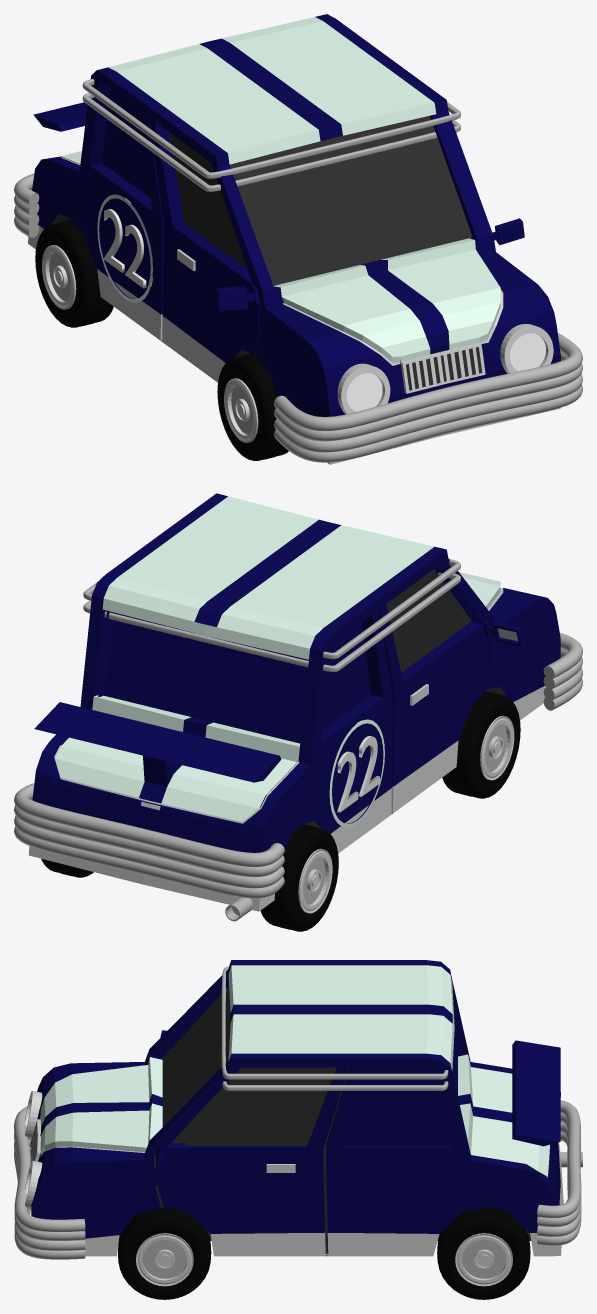
The model's file is CR-CAR-24B.fbx.
3 renders of one model, top to bottom at view 1: azimuth 30°, elevation 25°; view 2: azimuth 150°, elevation 25°; view 3: azimuth 270°, elevation 25°, orthographic. The views are drawn at different scales.
Parts seen in each view (by area): view 1: Body, NurbsPath.002, NurbsPath.001, WHEEL.004, WHEEL.001, Text; view 2: Body, NurbsPath.002, WHEEL.001, WHEEL.004, NurbsPath.001, Text; view 3: Body, NurbsPath.002, WHEEL.002, WHEEL.003, NurbsPath.001.
Part boxes in pixels (<box>): Body: <box>26,14,560,464</box>; NurbsPath.002: <box>14,173,582,462</box>; NurbsPath.001: <box>82,78,460,191</box>; WHEEL.004: <box>35,220,113,327</box>; WHEEL.001: <box>217,353,288,460</box>; Text: <box>103,209,146,288</box>; Body: <box>28,493,560,921</box>; NurbsPath.002: <box>14,633,582,898</box>; WHEEL.001: <box>442,691,520,798</box>; WHEEL.004: <box>260,824,338,931</box>; NurbsPath.001: <box>83,558,460,671</box>; Text: <box>337,736,379,812</box>; Body: <box>25,960,582,1256</box>; NurbsPath.002: <box>14,1100,581,1259</box>; WHEEL.002: <box>437,1207,530,1299</box>; WHEEL.003: <box>118,1207,211,1299</box>; NurbsPath.001: <box>221,966,448,1090</box>.
Bounding box in the file's own units: 129 × 110 × 238.
